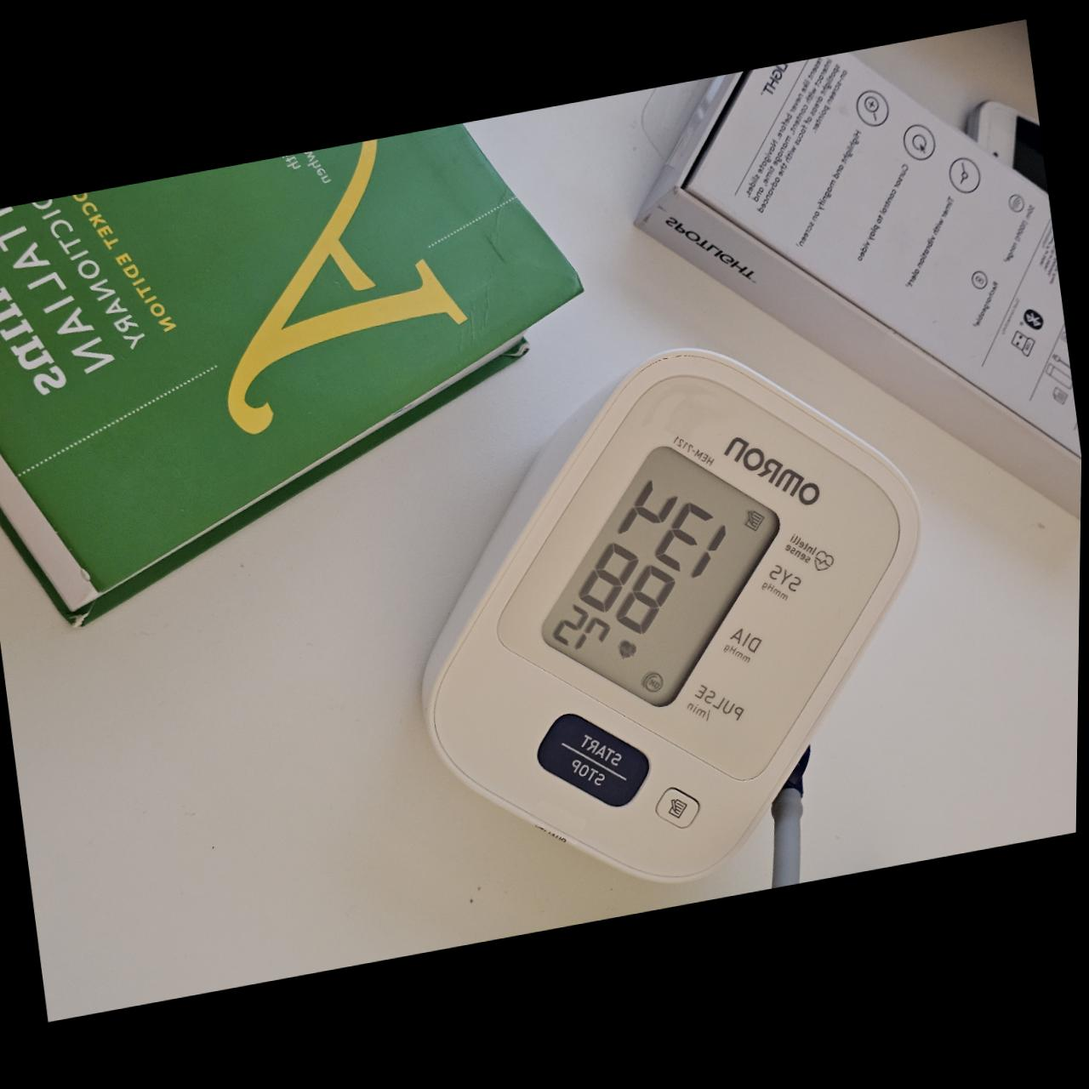blood pressure monitor: (373, 306, 968, 930)
